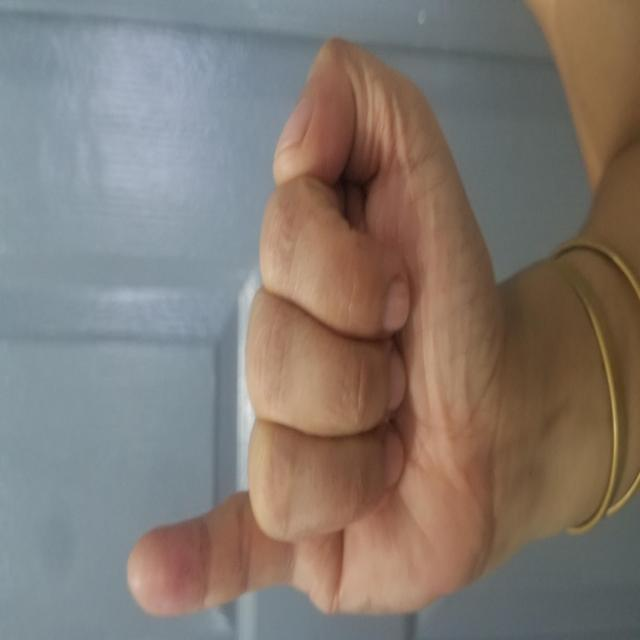I: (23, 126, 606, 500)
